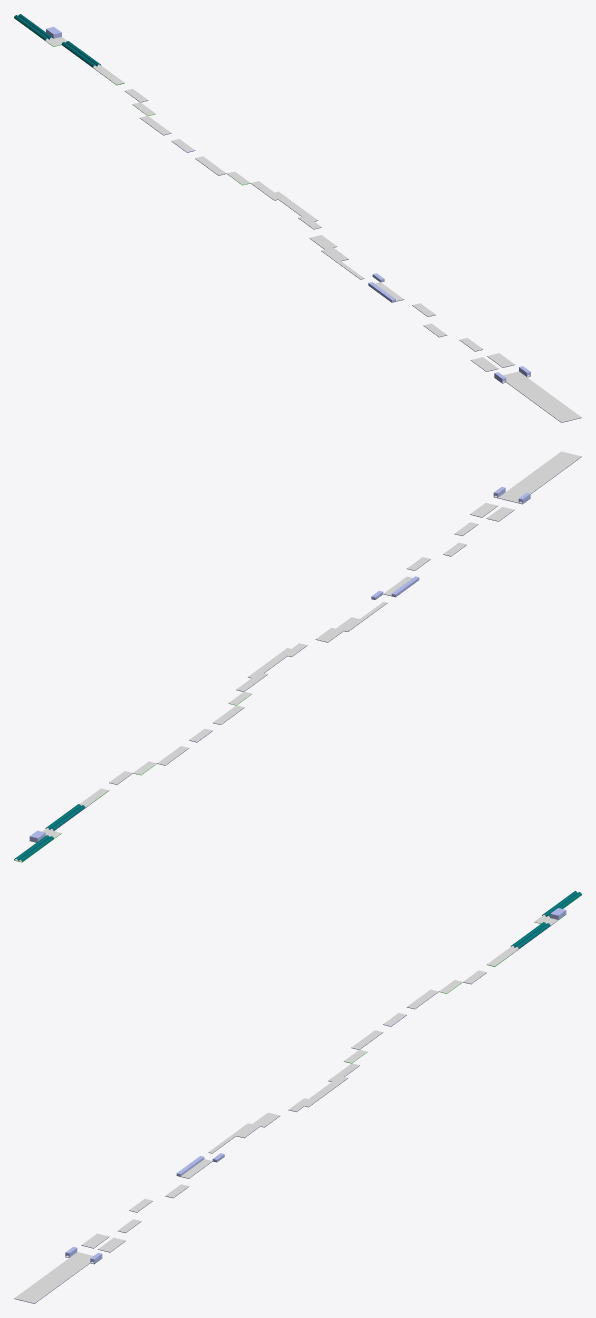
File: Level33.FBX
3 views of the same model, one above another, from view 1: azimuth 30°, elevation 25°; view 2: azimuth 150°, elevation 25°; view 3: azimuth 330°, elevation 25° (orthographic).
Visible parts, largest first — view 1: basePlatform, Obsticles; view 2: basePlatform, Obsticles; view 3: basePlatform, Obsticles.
Boxes of the visible parts, x1=… form: basePlatform: x1=45, y1=37, x2=581, y2=422; Obsticles: x1=14, y1=14, x2=530, y2=382; basePlatform: x1=14, y1=451, x2=581, y2=861; Obsticles: x1=14, y1=487, x2=530, y2=861; basePlatform: x1=14, y1=914, x2=557, y2=1303; Obsticles: x1=65, y1=891, x2=581, y2=1263.
Bounding box in the file's own units: 26.27 × 4.14 × 875.
